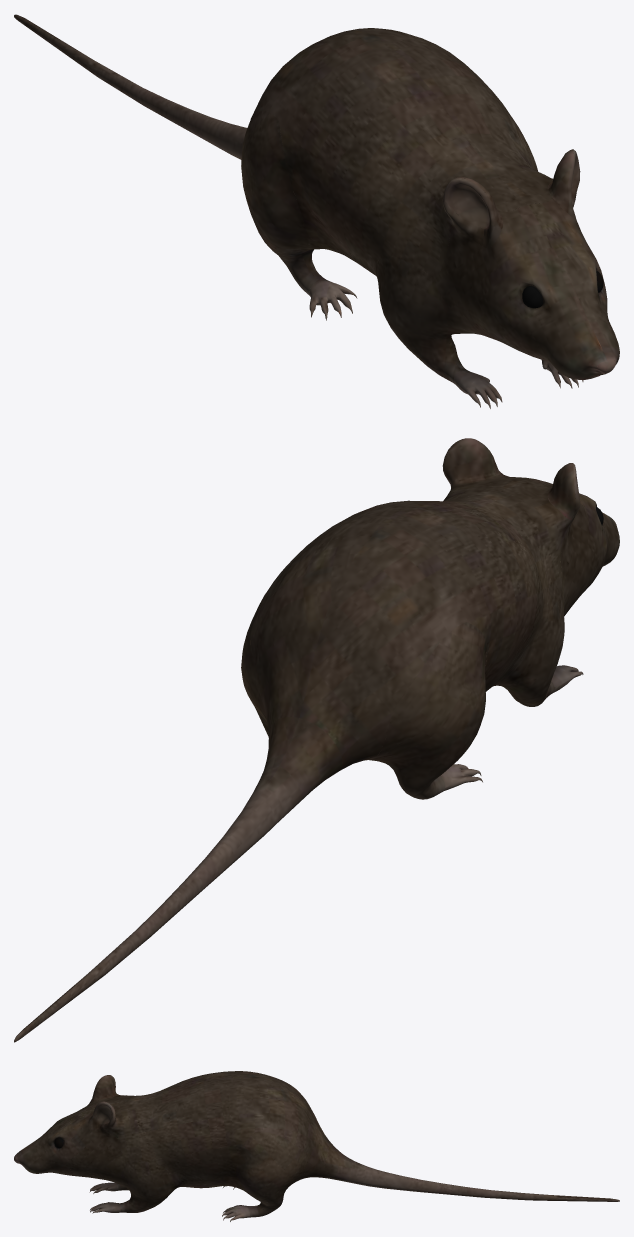
File: ph_street_rat.glb
3 renders of one model, top to bottom at view 1: azimuth 30°, elevation 25°; view 2: azimuth 150°, elevation 25°; view 3: azimuth 270°, elevation 25°, orthographic. The views are drawn at different scales.
Parts seen in each view (by area): view 1: street_rat; view 2: street_rat; view 3: street_rat.
Part boxes in pixels (x1=…): street_rat: x1=14, y1=14, x2=619, y2=408; street_rat: x1=14, y1=438, x2=619, y2=1042; street_rat: x1=14, y1=1071, x2=619, y2=1221.
Bounding box in the file's own units: 0.032 × 0.0339 × 0.1483.
1 material, 1 textured.
